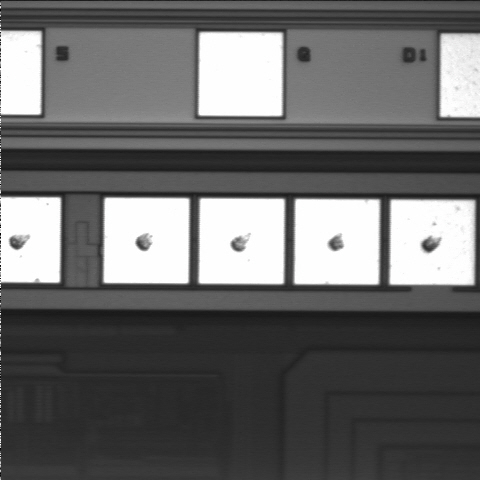pad: (104, 198, 189, 283), (199, 199, 284, 284), (294, 199, 379, 284), (390, 200, 474, 285), (199, 32, 282, 116)
